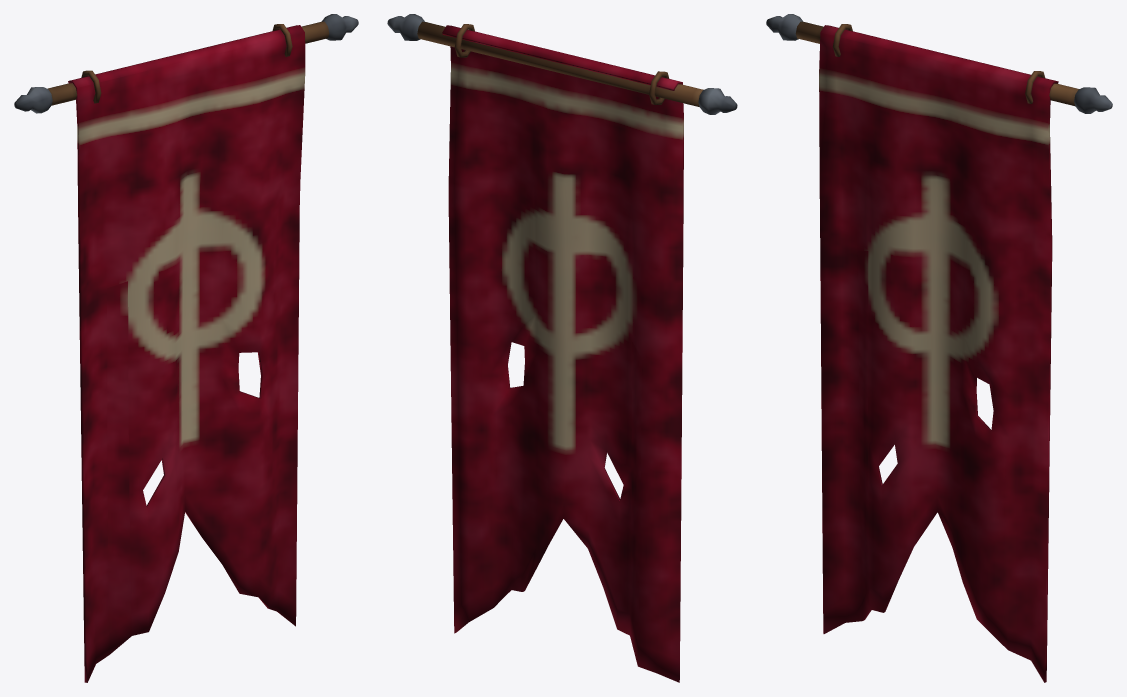
File: ENV_Banner.fbx
3 views of the same model, side by side, from view 1: azimuth 30°, elevation 25°; view 2: azimuth 150°, elevation 25°; view 3: azimuth 330°, elevation 25° (orthographic).
Visible parts, largest first — view 1: ENV_Banner; view 2: ENV_Banner; view 3: ENV_Banner.
Boxes of the visible parts, bbox=[...] form: ENV_Banner: bbox=[14, 14, 358, 682]; ENV_Banner: bbox=[387, 14, 737, 682]; ENV_Banner: bbox=[766, 14, 1112, 682].
Size of the model in its own units: 1.5 by 2.53 by 0.16.
